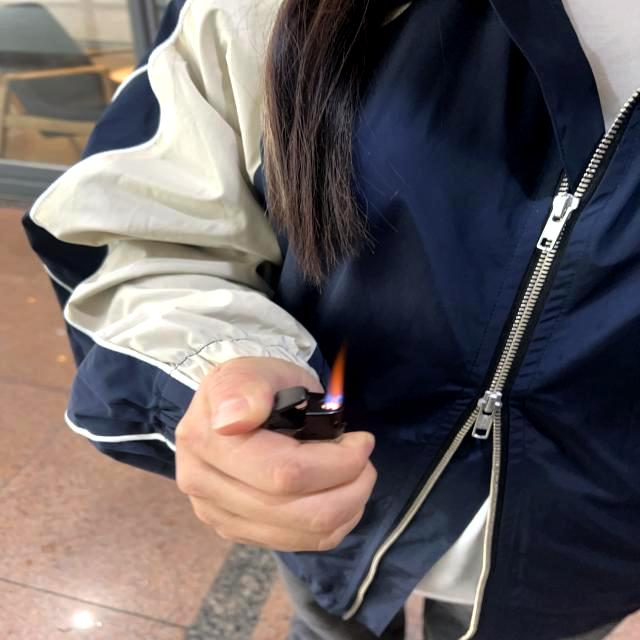fire: (327, 341, 345, 409)
